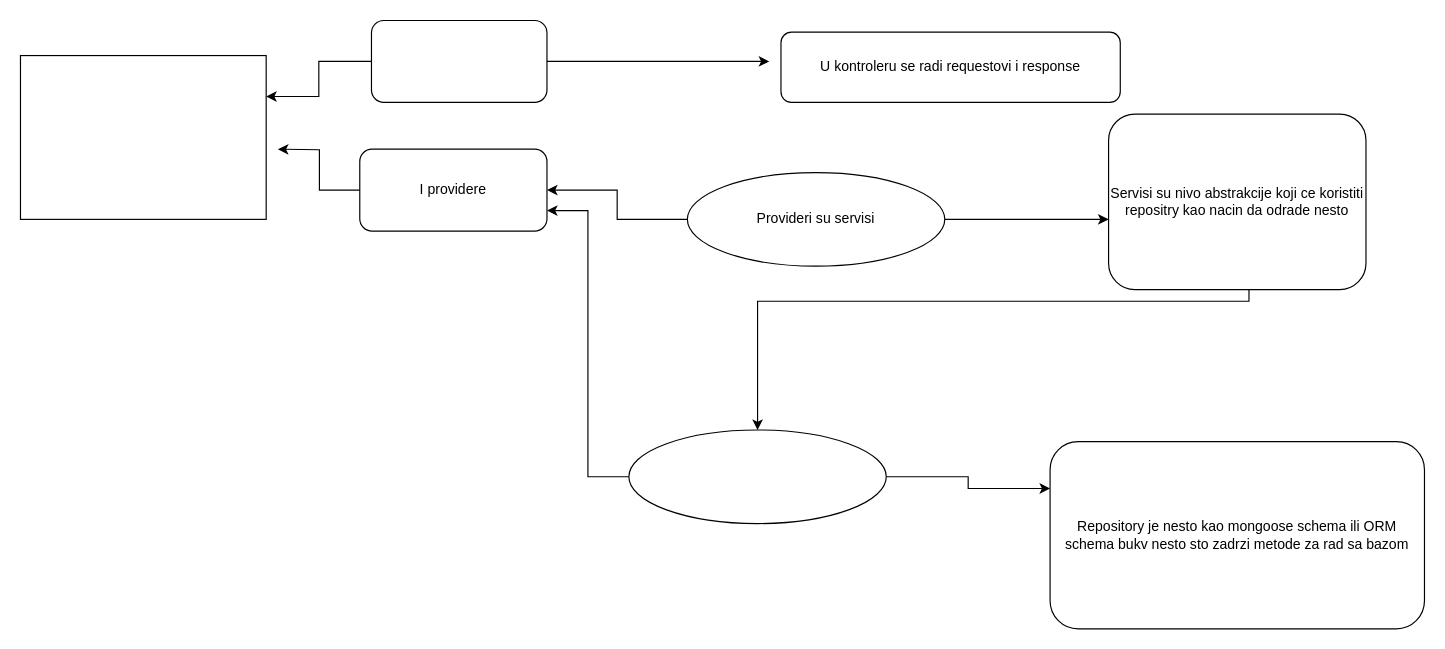
The diagram is 1445 pixels wide and 649 high, and some of its shapes have lost their labels. The centre of each missing label's shape, as x and y in pixels:
"Modul sadrzi kontrolere" goes at (x=458, y=60).
"Provideri su Repository" goes at (x=757, y=476).
"Sve krece od Modula" goes at (x=142, y=136).
